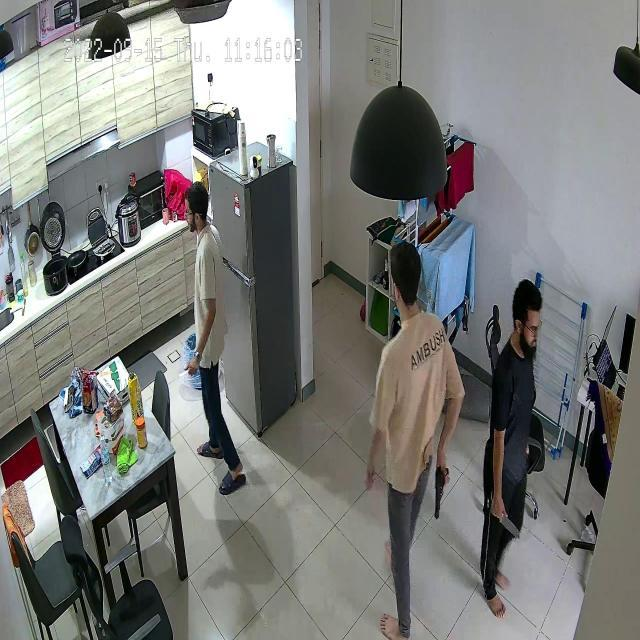Gun: (432, 455, 454, 530)
Knife: (484, 499, 528, 544)
